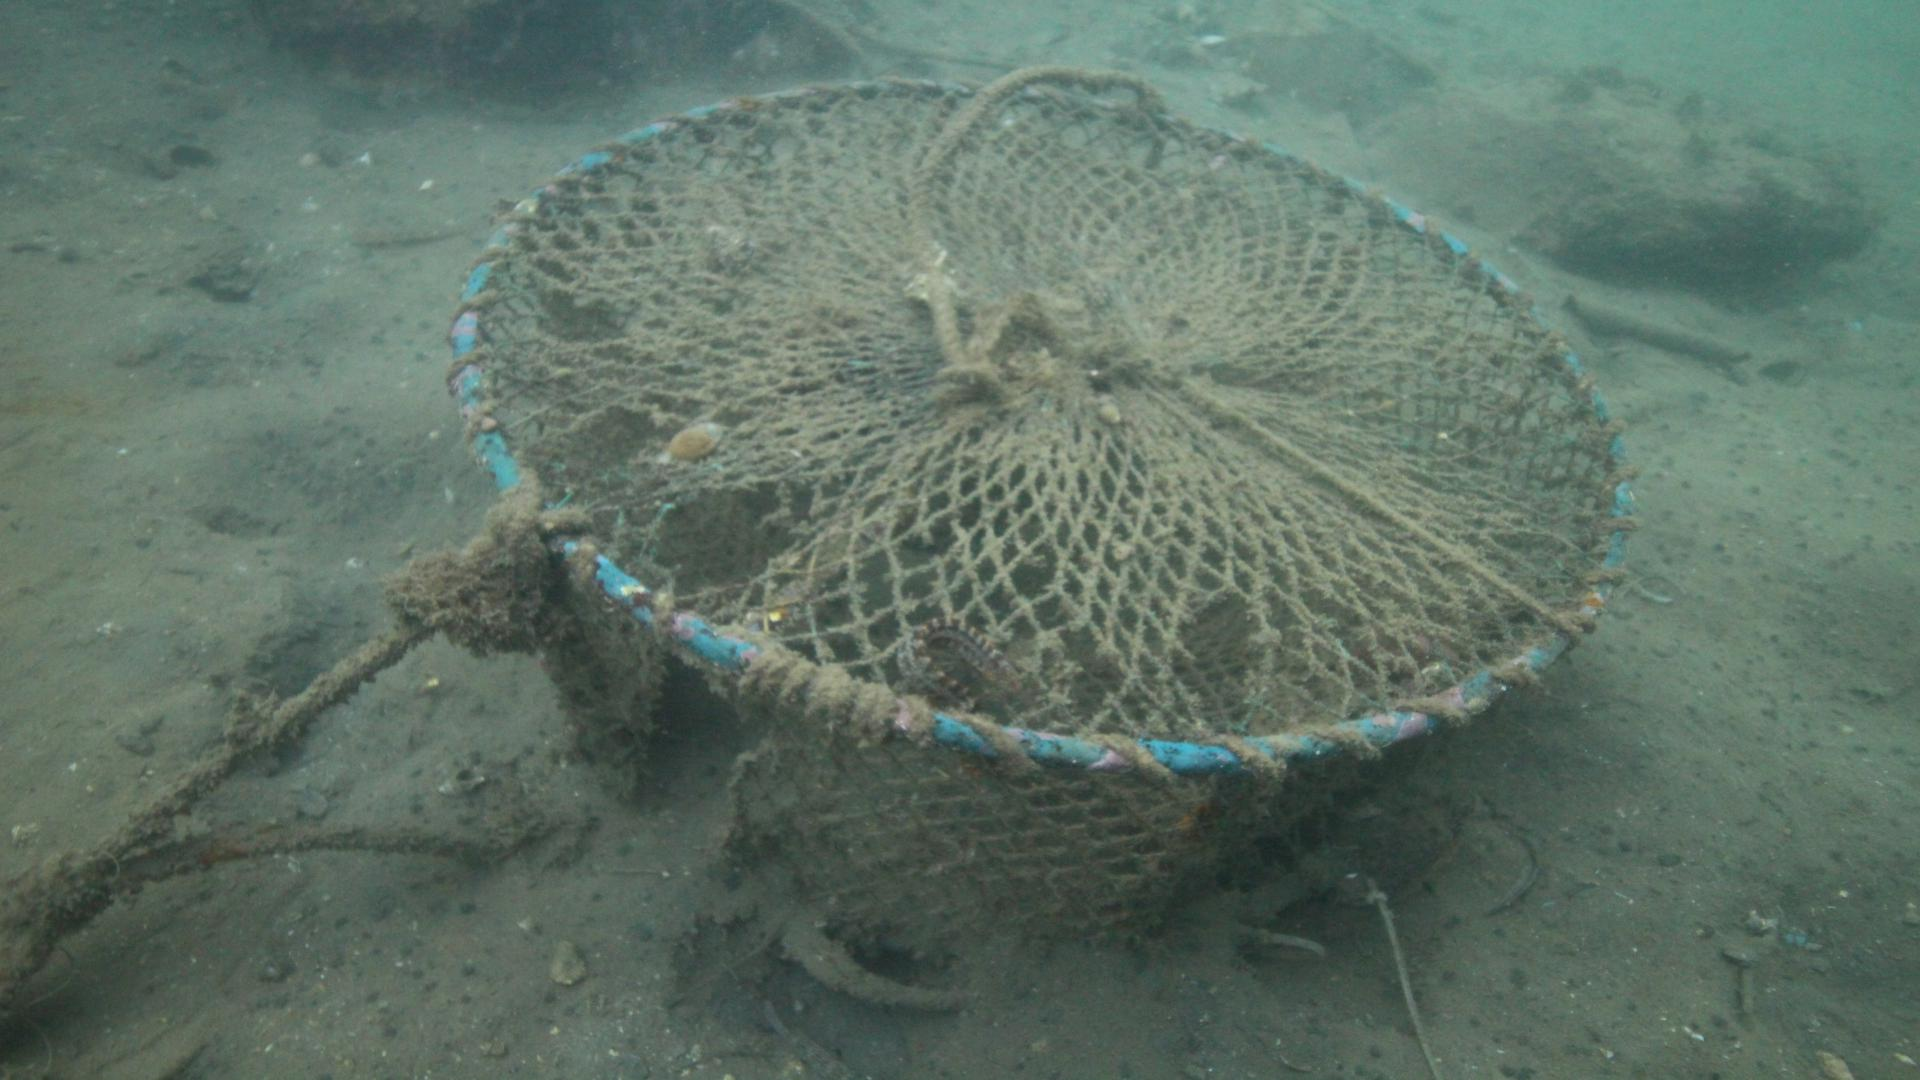bundle of ropes: (0, 533, 520, 997)
circular fish trap: (444, 75, 1636, 961)
